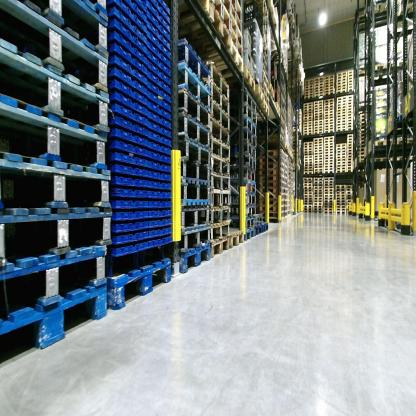pallet: (0, 40, 113, 131), (0, 244, 112, 335), (2, 4, 107, 101), (0, 276, 114, 364), (2, 151, 115, 214), (0, 104, 106, 170), (105, 254, 179, 323), (0, 212, 111, 257), (20, 2, 111, 50), (175, 1, 232, 57), (196, 36, 244, 80), (174, 60, 211, 110), (174, 81, 210, 132), (177, 42, 211, 95), (177, 107, 211, 152), (171, 1, 211, 32), (176, 171, 210, 207), (180, 196, 211, 234), (176, 134, 210, 167), (179, 242, 211, 271), (179, 220, 212, 248), (209, 58, 231, 98), (178, 159, 211, 184), (211, 80, 231, 115), (231, 128, 258, 153), (209, 116, 231, 146), (208, 223, 234, 248), (230, 153, 257, 177), (210, 1, 230, 33), (206, 235, 230, 259), (210, 154, 233, 179), (210, 136, 232, 161), (231, 179, 257, 200), (238, 66, 257, 94), (227, 167, 259, 183), (211, 101, 231, 126), (209, 173, 233, 193), (229, 142, 257, 159), (396, 3, 414, 28), (229, 16, 243, 48), (211, 208, 231, 230), (370, 60, 392, 80), (230, 193, 258, 208), (209, 189, 231, 208), (234, 215, 256, 234), (230, 31, 244, 59), (225, 230, 244, 249), (370, 1, 390, 19), (240, 115, 256, 137), (230, 4, 241, 35), (370, 138, 394, 152), (230, 205, 256, 217), (241, 106, 256, 126), (228, 1, 242, 22), (258, 173, 284, 183), (254, 105, 270, 121), (218, 1, 233, 18), (258, 155, 285, 164), (392, 58, 408, 73), (243, 91, 256, 109), (258, 149, 284, 158), (257, 211, 285, 219), (255, 83, 265, 104), (258, 198, 284, 206), (395, 137, 415, 147), (373, 153, 392, 163), (258, 164, 284, 171), (259, 169, 284, 176), (258, 181, 285, 187), (395, 154, 413, 163), (243, 230, 256, 242), (252, 212, 264, 225), (257, 193, 286, 198), (258, 188, 286, 193), (257, 206, 285, 211), (262, 46, 269, 65), (274, 100, 281, 118), (264, 91, 270, 110), (263, 55, 268, 77), (263, 219, 285, 224), (263, 82, 269, 100), (264, 70, 270, 88), (269, 79, 274, 100), (254, 224, 263, 235), (336, 143, 348, 148), (325, 128, 335, 134), (335, 90, 347, 95), (324, 85, 334, 91), (263, 225, 270, 233), (313, 137, 324, 142), (359, 113, 368, 119), (313, 109, 323, 114), (336, 83, 346, 88), (324, 75, 334, 80), (314, 93, 324, 98), (304, 78, 314, 83), (359, 160, 367, 166), (305, 87, 313, 93), (304, 163, 313, 168), (303, 102, 312, 107), (304, 112, 313, 117), (303, 118, 312, 123), (337, 77, 346, 82), (324, 78, 333, 83), (336, 117, 347, 121), (336, 114, 347, 118), (336, 112, 347, 116), (304, 186, 314, 190), (313, 205, 323, 209), (323, 208, 333, 212), (324, 177, 334, 181), (335, 152, 345, 156), (336, 161, 346, 165), (314, 171, 324, 175), (324, 136, 334, 140), (303, 110, 313, 114), (314, 120, 324, 124), (324, 124, 334, 128), (336, 126, 346, 130), (336, 120, 346, 124), (336, 103, 346, 107), (337, 72, 347, 76), (336, 80, 346, 84), (337, 86, 347, 90), (324, 84, 334, 88), (324, 81, 334, 85), (314, 83, 324, 87), (314, 85, 324, 89), (314, 89, 324, 93), (304, 93, 314, 97), (305, 85, 313, 90), (284, 164, 288, 173), (336, 185, 345, 189), (336, 191, 345, 195), (336, 208, 345, 212), (336, 156, 345, 160), (304, 155, 313, 159), (324, 167, 333, 171), (303, 108, 312, 112), (303, 124, 312, 128), (314, 100, 323, 104), (325, 90, 334, 94), (315, 77, 324, 81), (305, 91, 314, 95), (305, 82, 314, 86), (237, 1, 242, 8), (283, 218, 288, 225), (359, 133, 366, 138), (323, 200, 334, 203), (323, 197, 334, 200), (335, 197, 346, 200), (335, 212, 346, 215), (313, 168, 324, 171), (324, 128, 335, 131), (336, 129, 347, 132), (336, 109, 347, 112), (336, 100, 347, 103), (284, 193, 288, 201), (304, 144, 312, 148), (303, 211, 313, 214), (303, 206, 313, 209), (313, 178, 323, 181), (313, 183, 323, 186), (313, 186, 323, 189), (313, 189, 323, 192), (313, 211, 323, 214), (323, 205, 333, 208), (323, 202, 333, 205), (324, 192, 334, 195), (324, 189, 334, 192), (323, 183, 333, 186), (336, 200, 346, 203), (336, 203, 346, 206), (346, 198, 352, 203), (336, 159, 346, 162), (336, 166, 346, 169), (336, 169, 346, 172), (304, 172, 314, 175), (313, 160, 323, 163), (313, 147, 323, 150), (313, 144, 323, 147), (324, 140, 334, 143), (324, 145, 334, 148), (324, 148, 334, 151), (324, 151, 334, 154), (324, 154, 334, 157), (324, 162, 334, 165), (324, 171, 334, 174), (313, 132, 323, 135), (313, 115, 323, 118), (324, 99, 334, 102), (324, 102, 334, 105), (324, 105, 334, 108), (324, 108, 334, 111), (324, 119, 334, 122), (324, 122, 334, 125), (336, 123, 346, 126), (336, 106, 346, 109), (336, 97, 346, 100), (325, 93, 335, 96), (314, 80, 324, 83), (284, 171, 288, 178), (284, 183, 288, 190), (346, 191, 353, 195), (358, 148, 365, 152), (304, 203, 313, 206), (304, 200, 313, 203), (304, 197, 313, 200), (304, 194, 313, 197), (314, 192, 323, 195), (313, 195, 322, 198), (313, 198, 322, 201), (324, 186, 333, 189), (336, 189, 345, 192), (304, 148, 313, 151), (304, 153, 313, 156), (304, 161, 313, 164), (314, 163, 323, 166), (314, 157, 323, 160), (314, 150, 323, 153), (325, 159, 334, 162), (303, 106, 312, 109), (303, 121, 312, 124), (303, 130, 312, 133), (314, 129, 323, 132), (314, 126, 323, 129), (314, 104, 323, 107), (325, 114, 334, 117), (337, 75, 346, 78), (359, 155, 364, 160), (285, 154, 288, 162), (284, 200, 288, 206), (284, 206, 288, 212), (304, 181, 312, 184), (346, 188, 354, 191), (360, 122, 366, 126), (359, 144, 365, 148), (347, 152, 355, 155), (347, 149, 355, 152), (347, 144, 355, 147), (347, 141, 355, 144), (347, 138, 355, 141), (304, 141, 312, 144), (304, 167, 312, 170), (304, 169, 312, 172), (303, 190, 314, 192), (313, 181, 324, 183), (323, 181, 334, 183), (335, 150, 346, 152), (313, 118, 324, 120), (285, 176, 288, 183), (346, 195, 353, 198), (359, 119, 366, 122), (359, 130, 366, 133), (359, 138, 366, 141), (347, 167, 354, 170), (347, 161, 354, 164), (347, 158, 354, 161), (347, 155, 354, 158), (284, 190, 288, 195), (303, 192, 313, 194), (313, 201, 323, 203), (313, 203, 323, 205), (313, 209, 323, 211), (323, 212, 333, 214), (324, 195, 334, 197), (335, 195, 345, 197), (336, 206, 346, 208), (347, 203, 352, 207), (360, 126, 365, 130), (336, 148, 346, 150), (313, 166, 323, 168), (313, 142, 323, 144), (324, 144, 334, 146), (303, 133, 313, 135), (313, 113, 323, 115), (314, 92, 324, 94), (284, 160, 287, 166), (284, 211, 287, 217), (304, 209, 313, 211), (359, 141, 365, 144), (358, 152, 364, 155), (347, 135, 353, 138), (304, 151, 313, 153), (304, 159, 313, 161), (314, 155, 323, 157), (314, 153, 323, 155), (325, 157, 334, 159), (324, 165, 333, 167), (303, 128, 312, 130), (314, 124, 323, 126), (314, 107, 323, 109), (324, 111, 333, 113), (325, 117, 334, 119), (304, 184, 312, 186), (304, 179, 312, 181), (346, 186, 354, 188), (346, 170, 354, 172), (347, 164, 355, 166), (347, 147, 355, 149), (304, 117, 312, 119), (305, 97, 313, 99), (347, 207, 350, 211), (336, 165, 346, 166)
